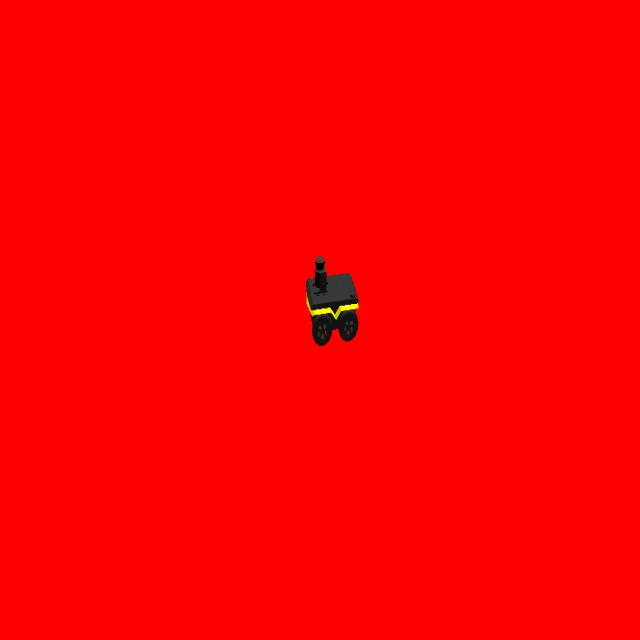jackal: (304, 253, 360, 348)
